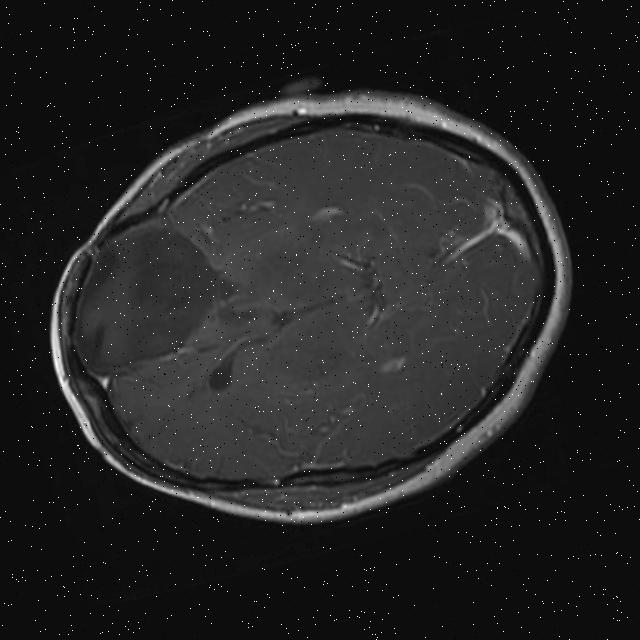Glioma: (44, 208, 237, 387)
